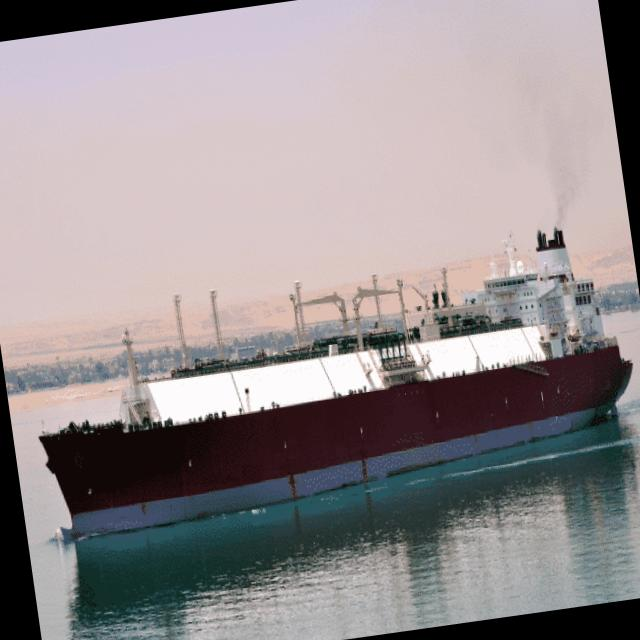boat: (16, 200, 640, 591)
